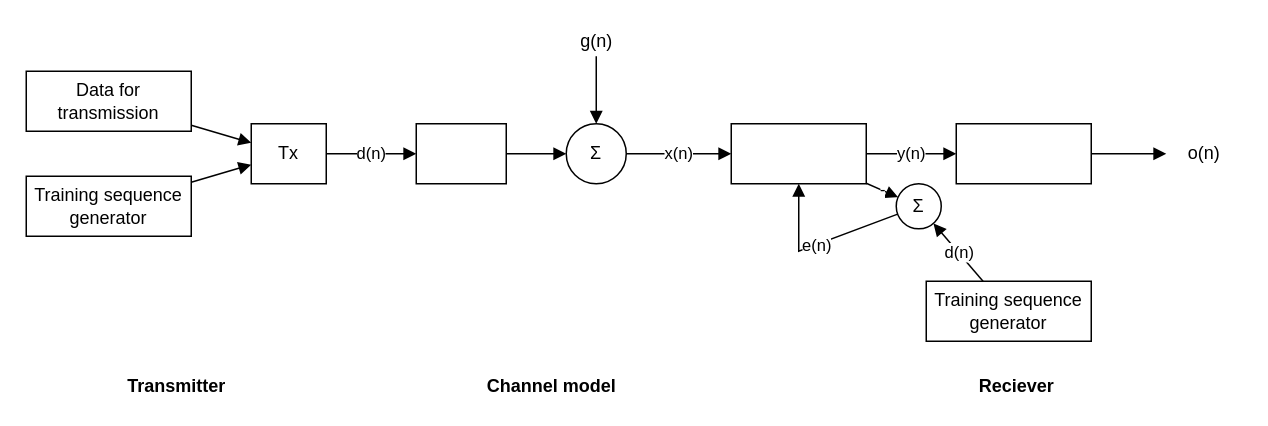
This 1268x426 diagram has some shape labels left out. Each missing label, with the box of its shape:
Equaliser: (730, 122, 866, 184)
H[z]: (415, 122, 506, 184)
Hard-limit function: (955, 122, 1091, 184)
